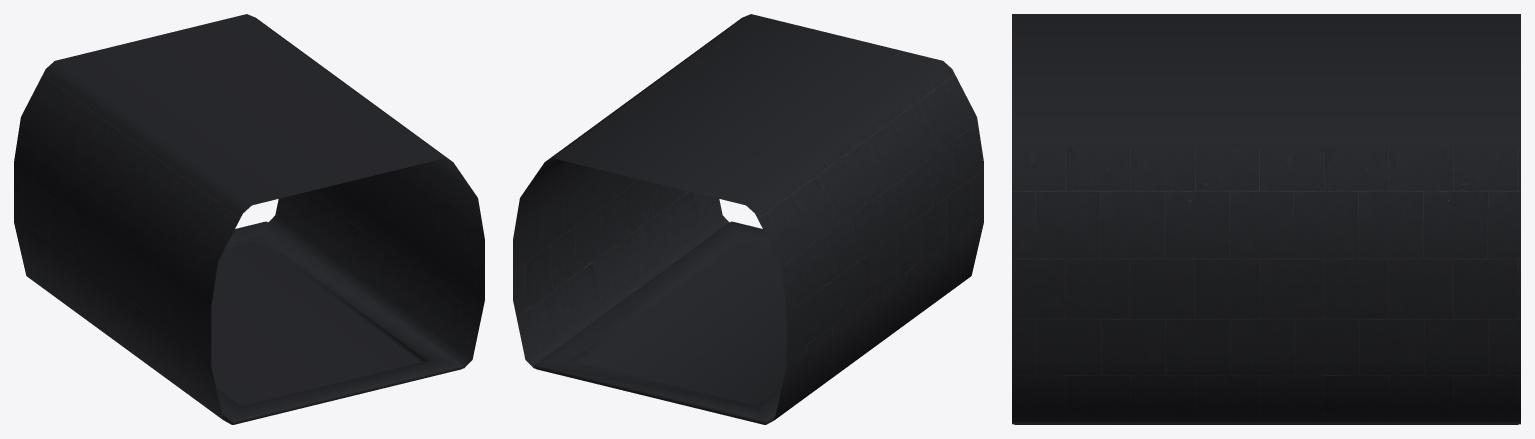
Rendered from corridor_straight.fbx.
3 views of the same model, side by side, from view 1: azimuth 30°, elevation 25°; view 2: azimuth 150°, elevation 25°; view 3: azimuth 270°, elevation 25° (orthographic). The views are drawn at different scales.
Parts seen in each view (by area): view 1: corridor_straight, corridor_straight.002; view 2: corridor_straight, corridor_straight.002; view 3: corridor_straight, corridor_straight.002.
Part boxes in pixels (box(x1,y1,x2,y2)): corridor_straight: box(14, 14, 484, 424); corridor_straight.002: box(216, 221, 463, 424); corridor_straight: box(513, 14, 983, 424); corridor_straight.002: box(534, 221, 781, 424); corridor_straight: box(1012, 14, 1520, 424); corridor_straight.002: box(1014, 424, 1518, 424).
Size of the model in its own units: 400 by 302 by 500.
